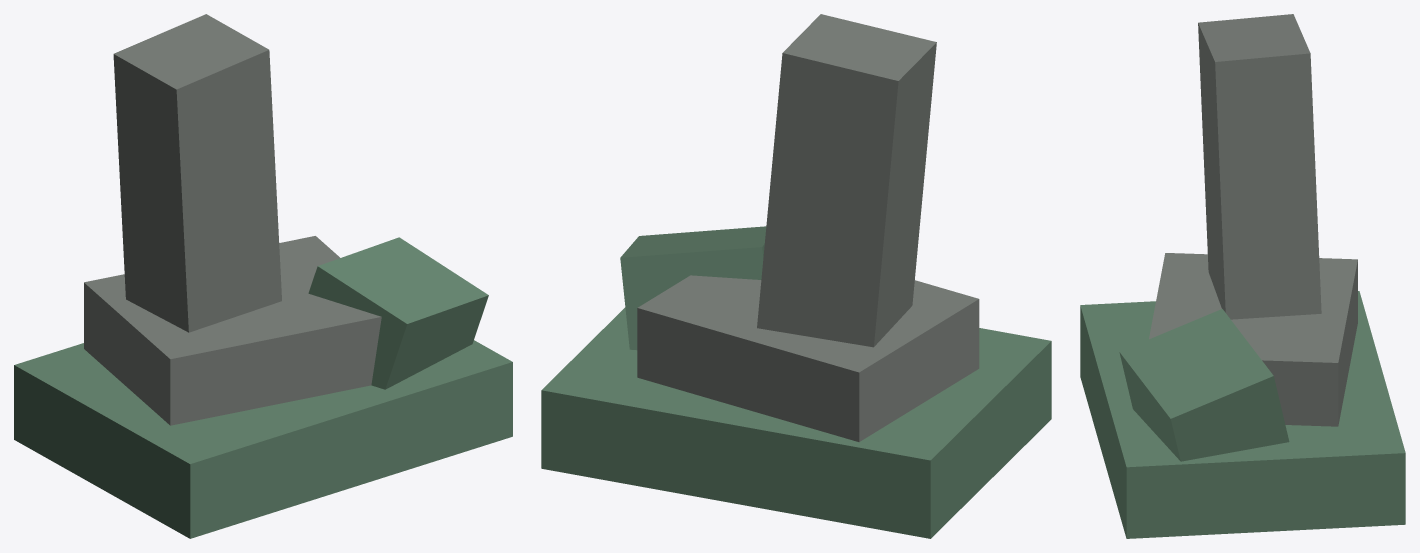
Rendered from jungle-ruin.glb.
The picture shows the model from 3 angles, left to right: view 1: azimuth 30°, elevation 25°; view 2: azimuth 150°, elevation 25°; view 3: azimuth 270°, elevation 25°; orthographic projection. The views are drawn at different scales.
Parts seen in each view (by area): view 1: jungle-ruin; view 2: jungle-ruin; view 3: jungle-ruin.
Boxes of the visible parts, x1,y1,x2,y2 form: jungle-ruin: (14,14,512,538); jungle-ruin: (541,14,1051,538); jungle-ruin: (1080,14,1405,538).
Bounding box in the file's own units: 2.38 × 2.43 × 1.85.
